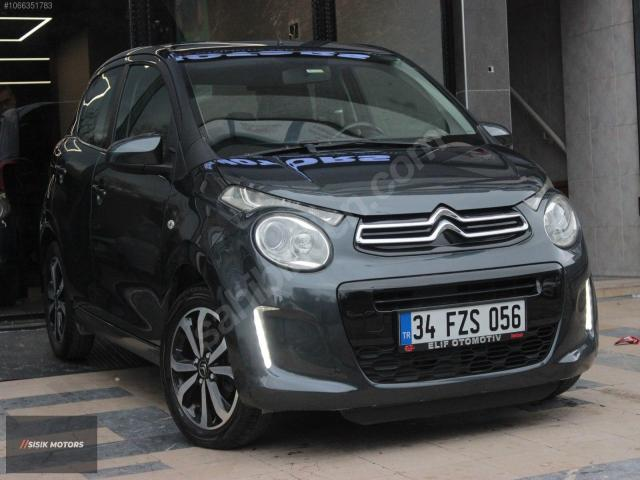plaka: (399, 300, 526, 352)
